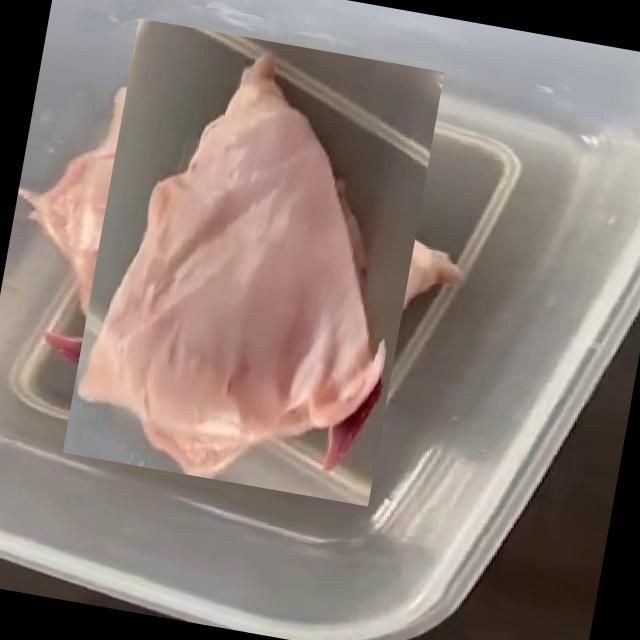chicken: (35, 44, 471, 480)
